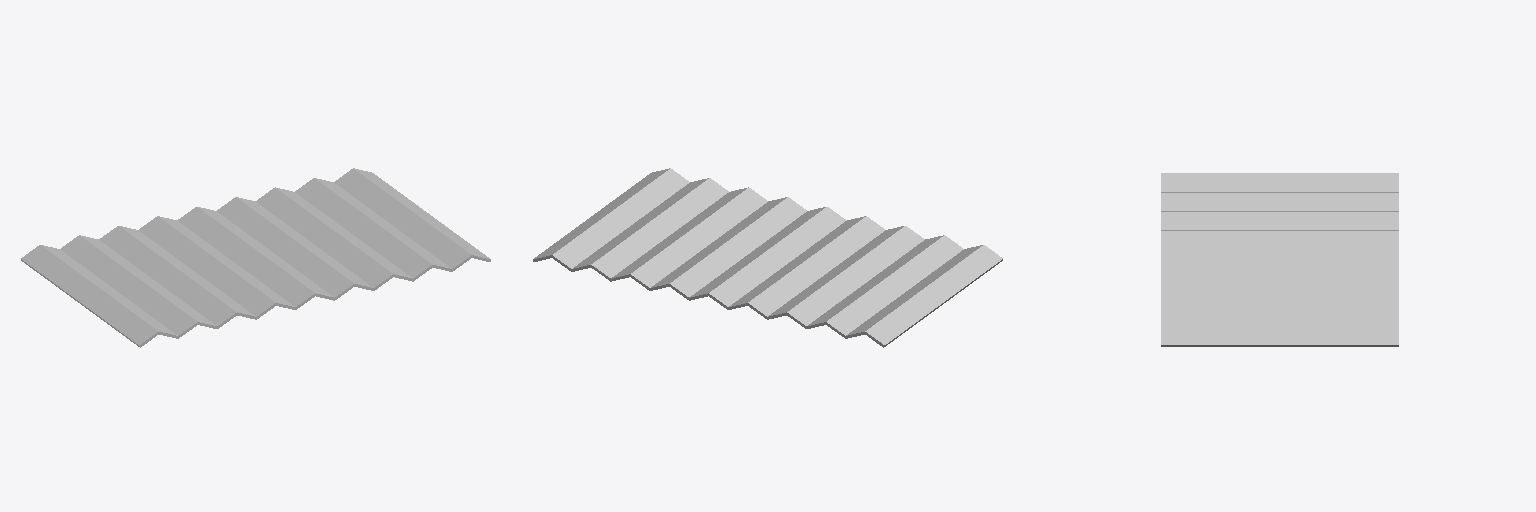
Rendered from MetalTing.obj.
3 renders of one model, left to right at view 1: azimuth 30°, elevation 25°; view 2: azimuth 150°, elevation 25°; view 3: azimuth 270°, elevation 25°, orthographic.
Visible parts, largest first — view 1: MetalTing; view 2: MetalTing; view 3: MetalTing.
Boxes of the visible parts, box(x1,y1,x2,y2) form: MetalTing: box(21, 168, 490, 347); MetalTing: box(533, 168, 1002, 347); MetalTing: box(1161, 173, 1398, 346).
Size of the model in its own units: 4.84 by 0.162 by 2.82.